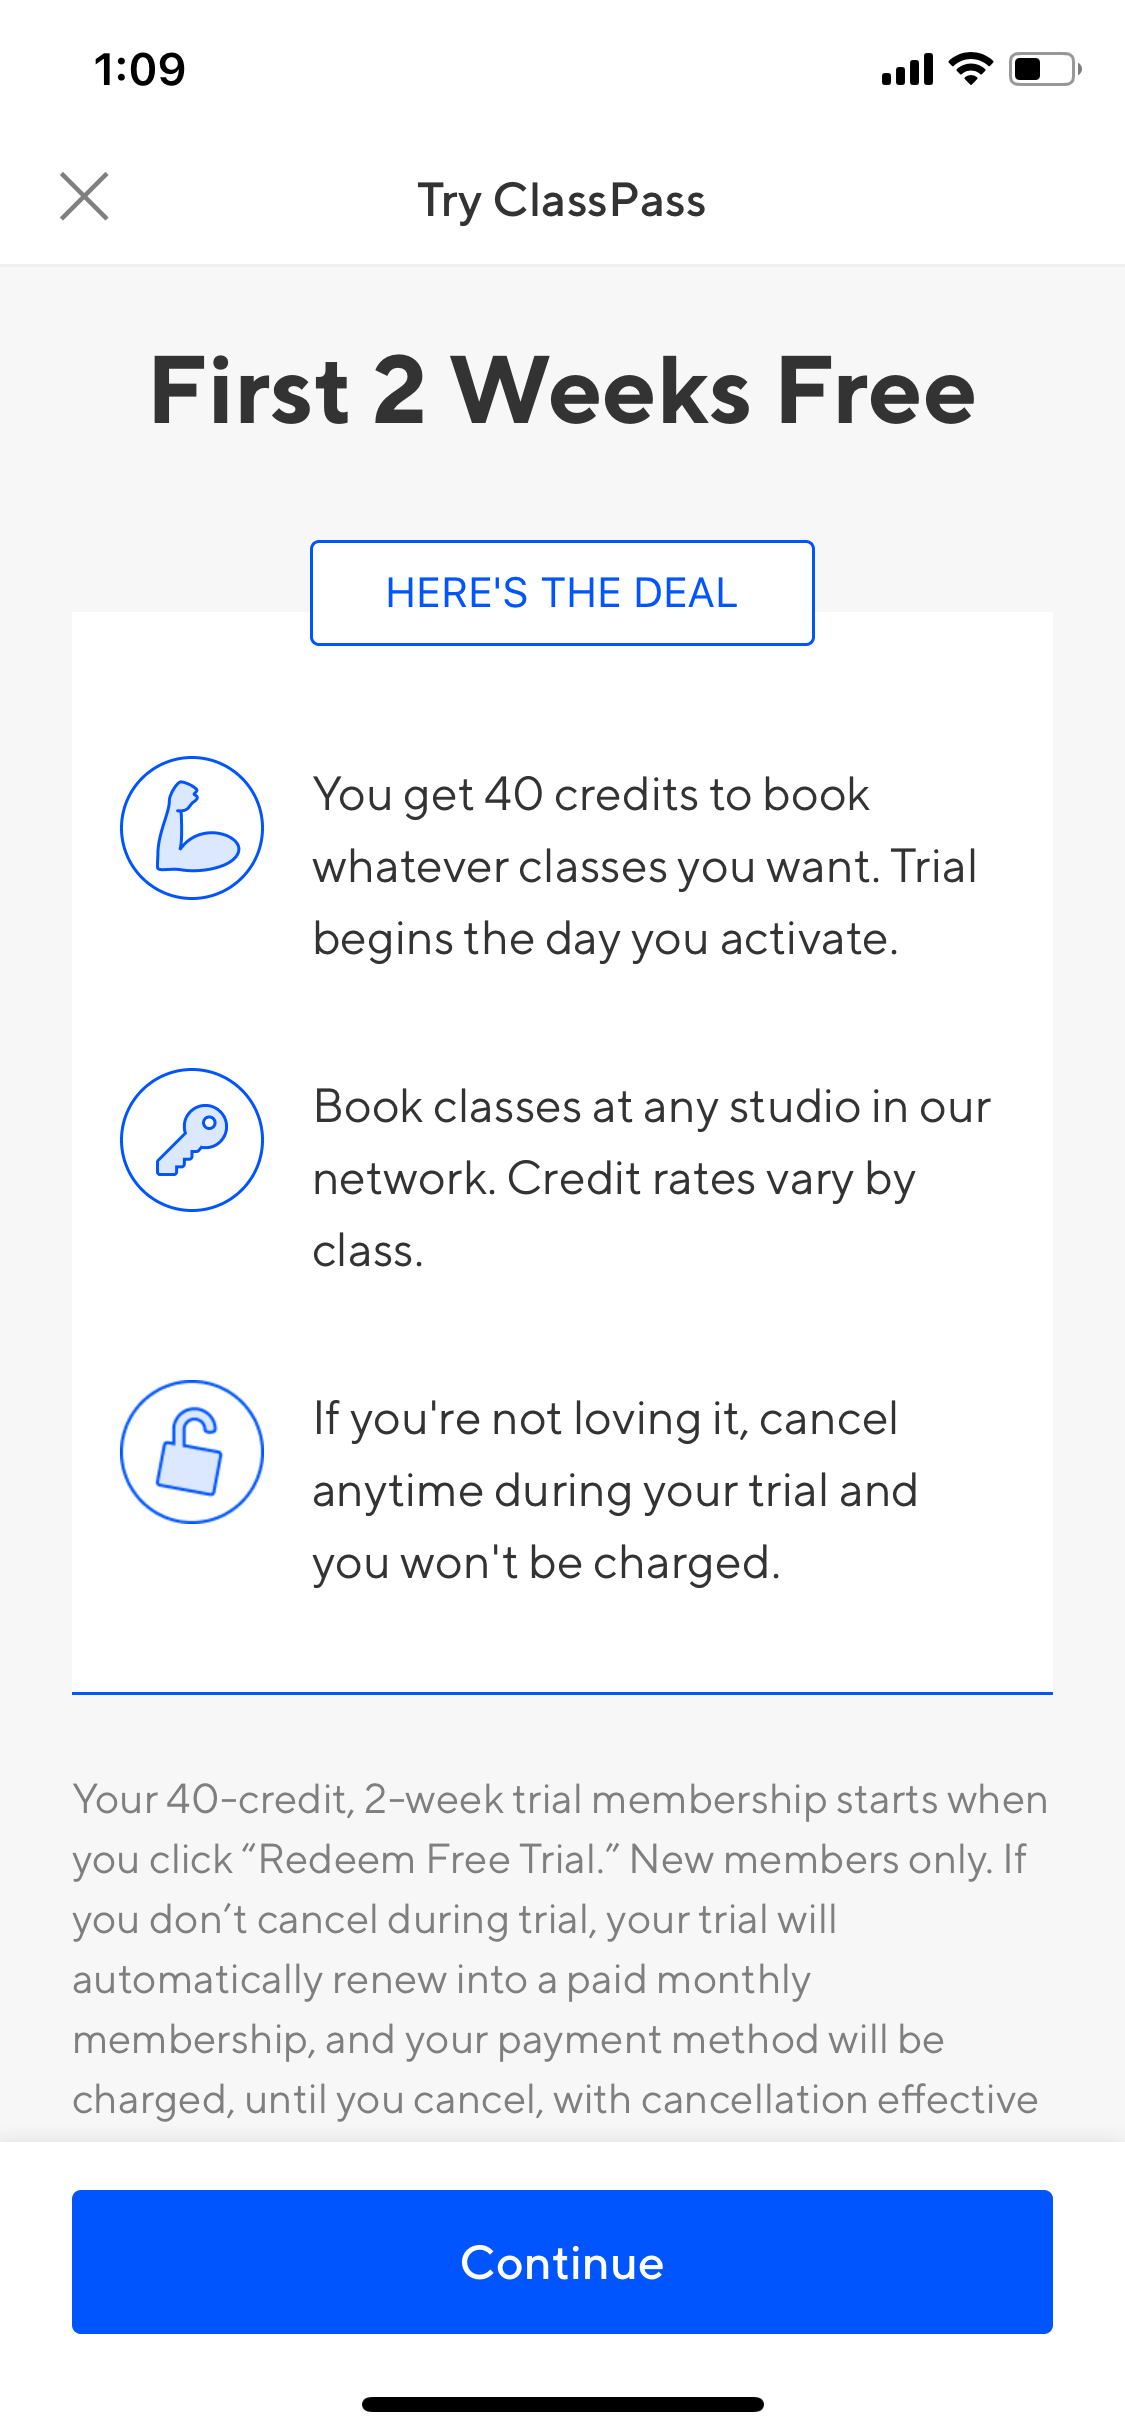Buttons: (64, 2177, 1068, 2338), (26, 129, 148, 252)
